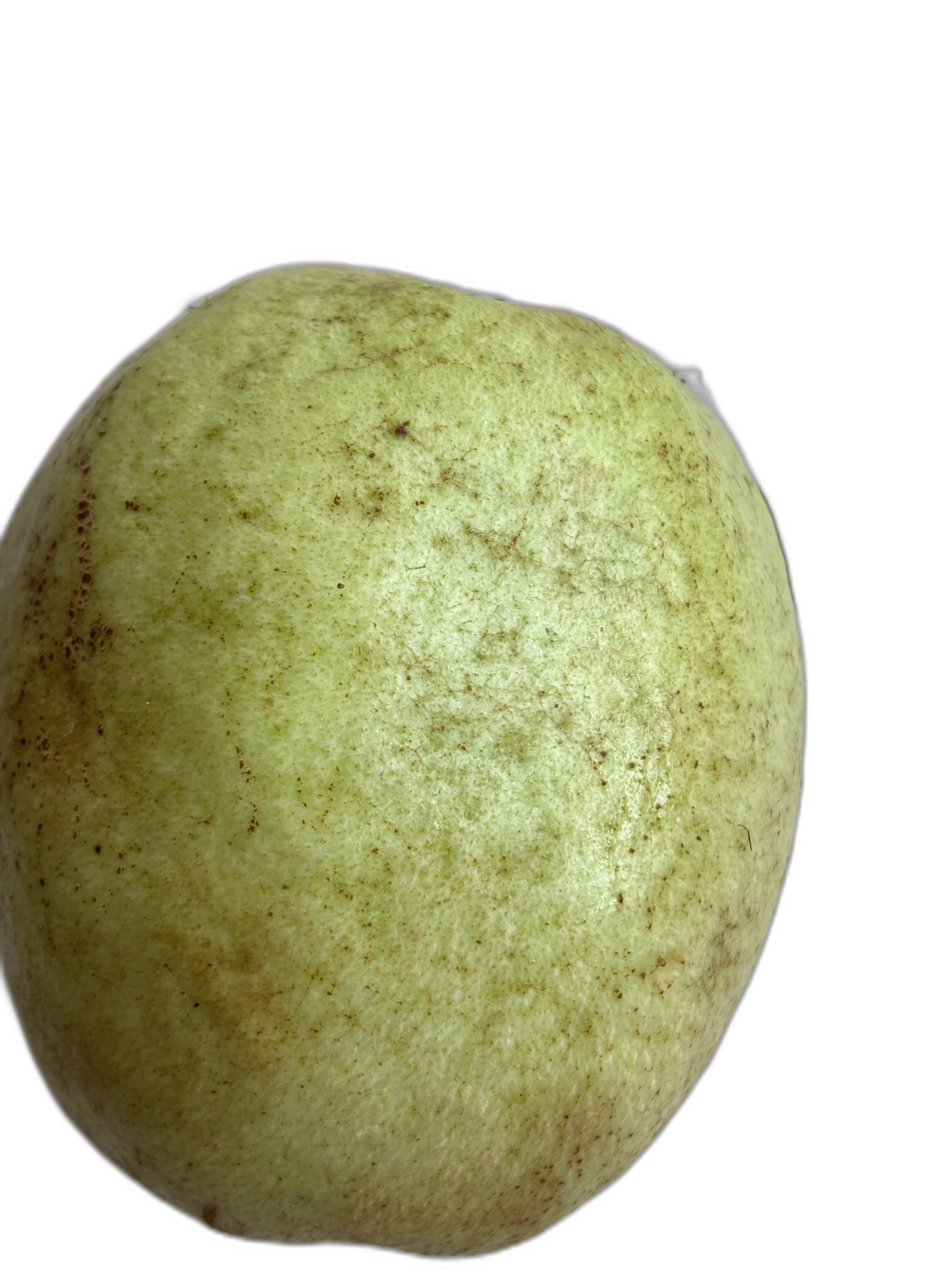guava: (30, 3, 737, 1093)
